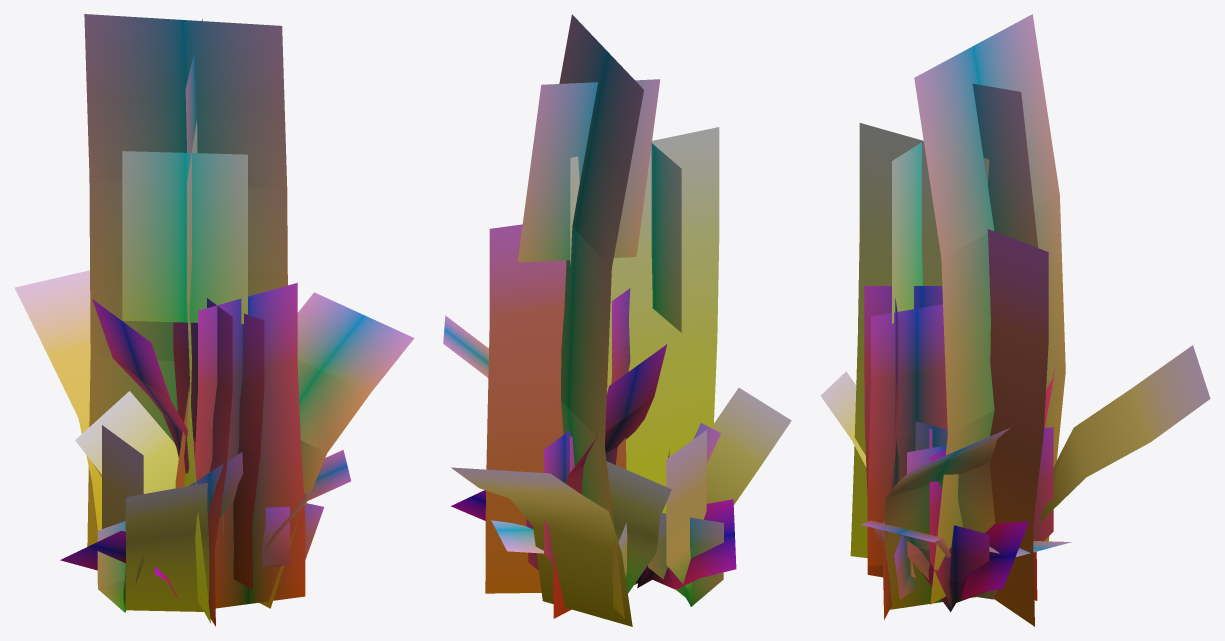
File: fine_filbert_03_2.fbx
3 views of the same model, side by side, from view 1: azimuth 30°, elevation 25°; view 2: azimuth 150°, elevation 25°; view 3: azimuth 270°, elevation 25° (orthographic). The views are drawn at different scales.
Visible parts, largest first — view 1: fine_filbert_03_2_lod_0; view 2: fine_filbert_03_2_lod_0; view 3: fine_filbert_03_2_lod_0.
Boxes of the visible parts, x1,y1,x2,y2 form: fine_filbert_03_2_lod_0: (15, 14, 414, 626); fine_filbert_03_2_lod_0: (443, 14, 791, 626); fine_filbert_03_2_lod_0: (820, 14, 1210, 626).
Size of what is drawn, in the model's own units: 0.6301 by 0.6763 by 1.04.
